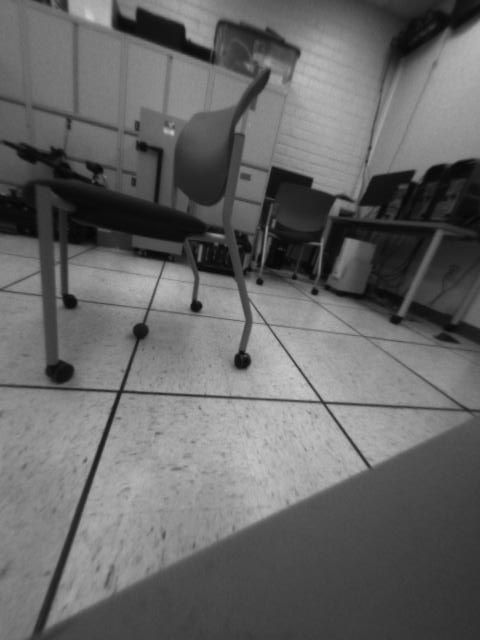dogtoy: (129, 316, 159, 348)
